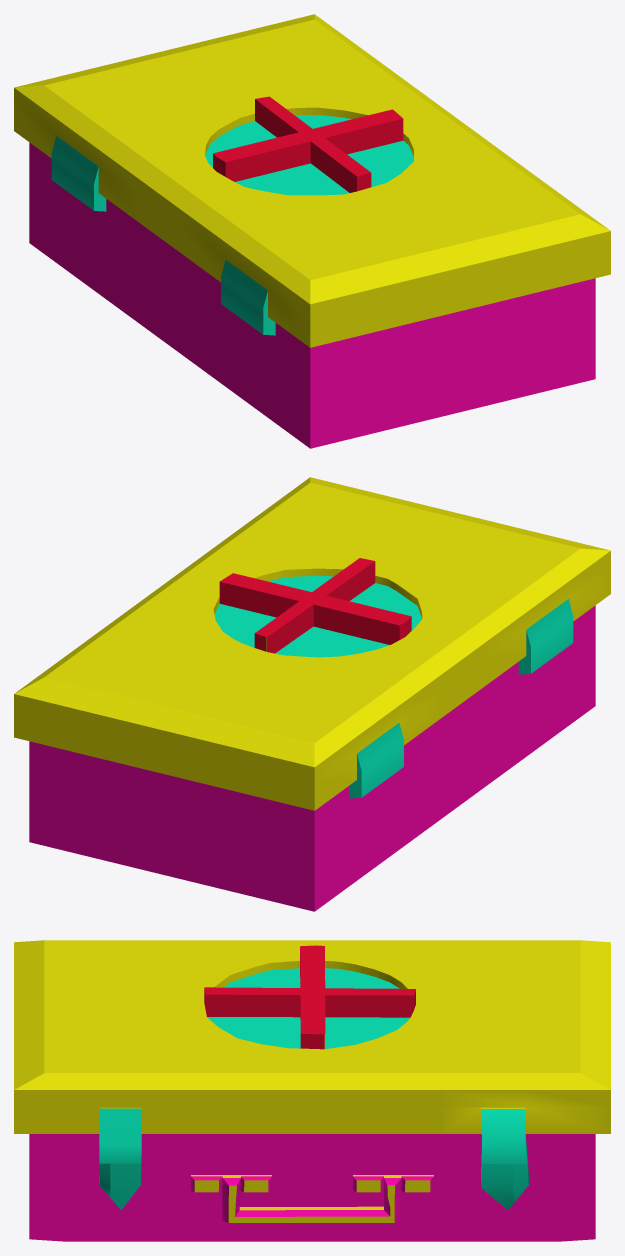
The model's file is MediKit.fbx.
3 views of the same model, one above another, from view 1: azimuth 30°, elevation 25°; view 2: azimuth 150°, elevation 25°; view 3: azimuth 270°, elevation 25° (orthographic).
Visible parts, largest first — view 1: Cube; view 2: Cube; view 3: Cube.
Part boxes in pixels (<box>): Cube: <box>14,14,610,448</box>; Cube: <box>14,477,610,911</box>; Cube: <box>14,940,610,1241</box>.
Size of the model in its own units: 227 by 125 by 360.
